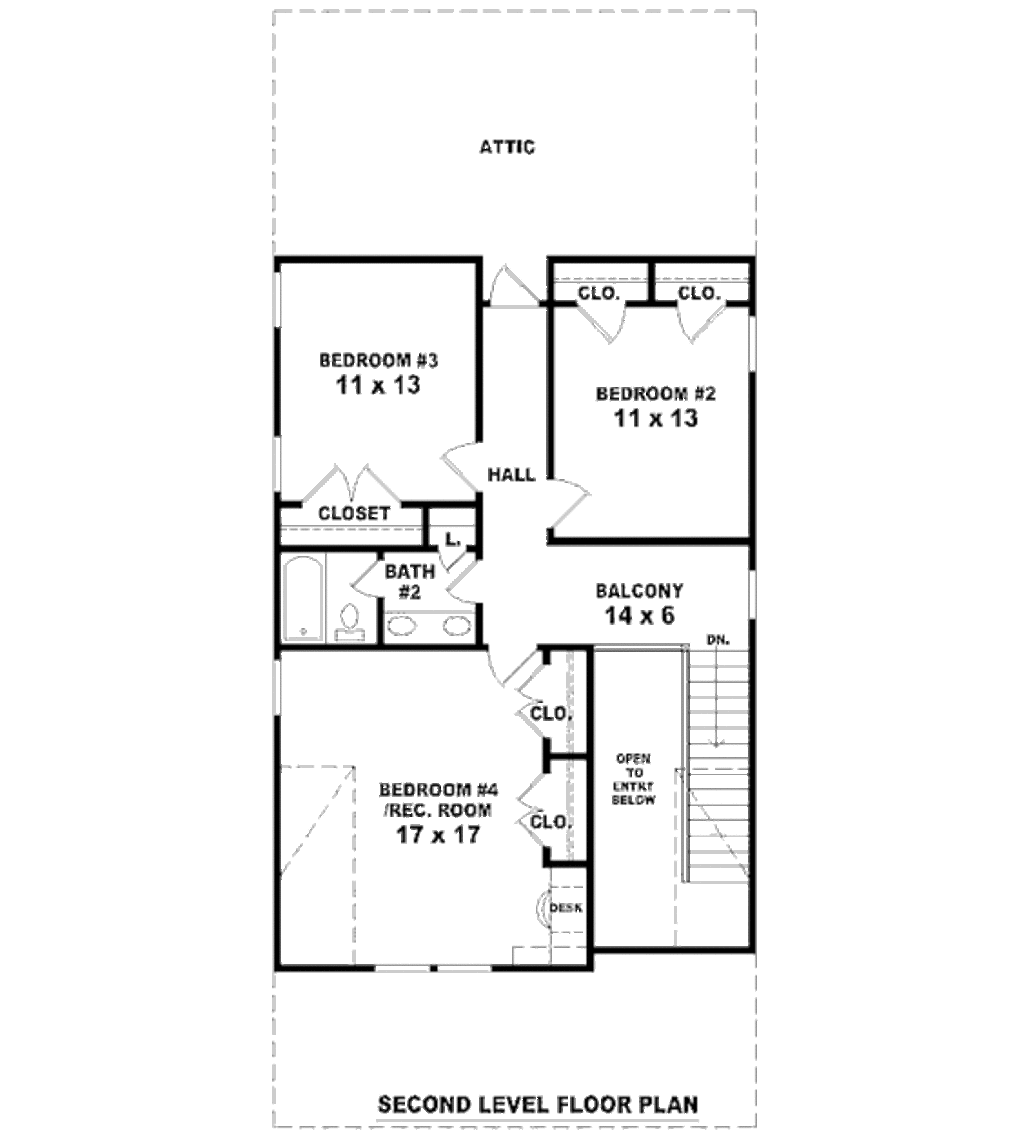door: (292, 455, 402, 508), (509, 650, 566, 738), (542, 472, 609, 532), (560, 296, 633, 346), (517, 767, 557, 848), (477, 263, 542, 312), (428, 439, 485, 492), (674, 296, 734, 346), (478, 642, 535, 686), (349, 554, 404, 599), (445, 552, 489, 608), (437, 540, 469, 572)
large_sink: (326, 587, 387, 660)
small_sink: (377, 606, 484, 645)
stairs: (671, 643, 774, 888)
tub: (281, 547, 326, 642)
window: (374, 954, 500, 981), (740, 307, 766, 369), (265, 656, 287, 721), (268, 432, 286, 496), (745, 569, 762, 622), (271, 269, 286, 329)
